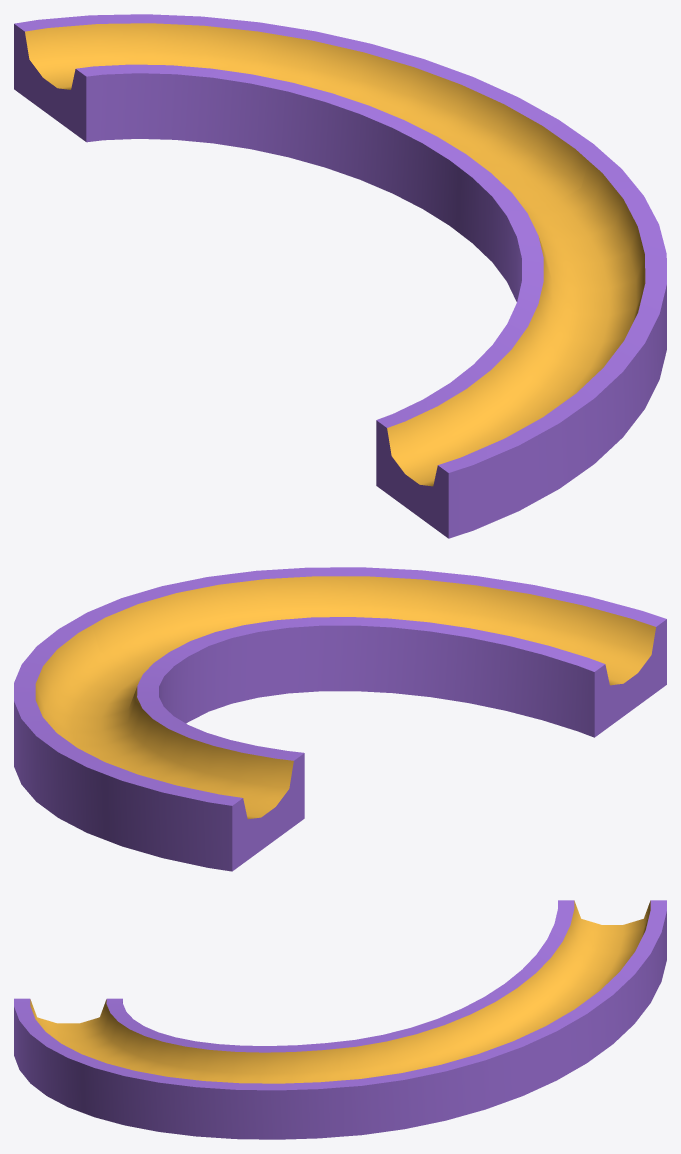
The model's file is helix-large-half-left-col.glb.
3 views of the same model, one above another, from view 1: azimuth 30°, elevation 25°; view 2: azimuth 150°, elevation 25°; view 3: azimuth 270°, elevation 25° (orthographic). The views are drawn at different scales.
Parts seen in each view (by area): view 1: helix-large-half-left-col; view 2: helix-large-half-left-col; view 3: helix-large-half-left-col.
Part boxes in pixels (bbox=[...]): helix-large-half-left-col: bbox=[14, 14, 666, 538]; helix-large-half-left-col: bbox=[14, 567, 666, 871]; helix-large-half-left-col: bbox=[14, 900, 666, 1139].
Bounding box in the file's own units: 3 × 1.5 × 6.
1 material, 1 textured.
